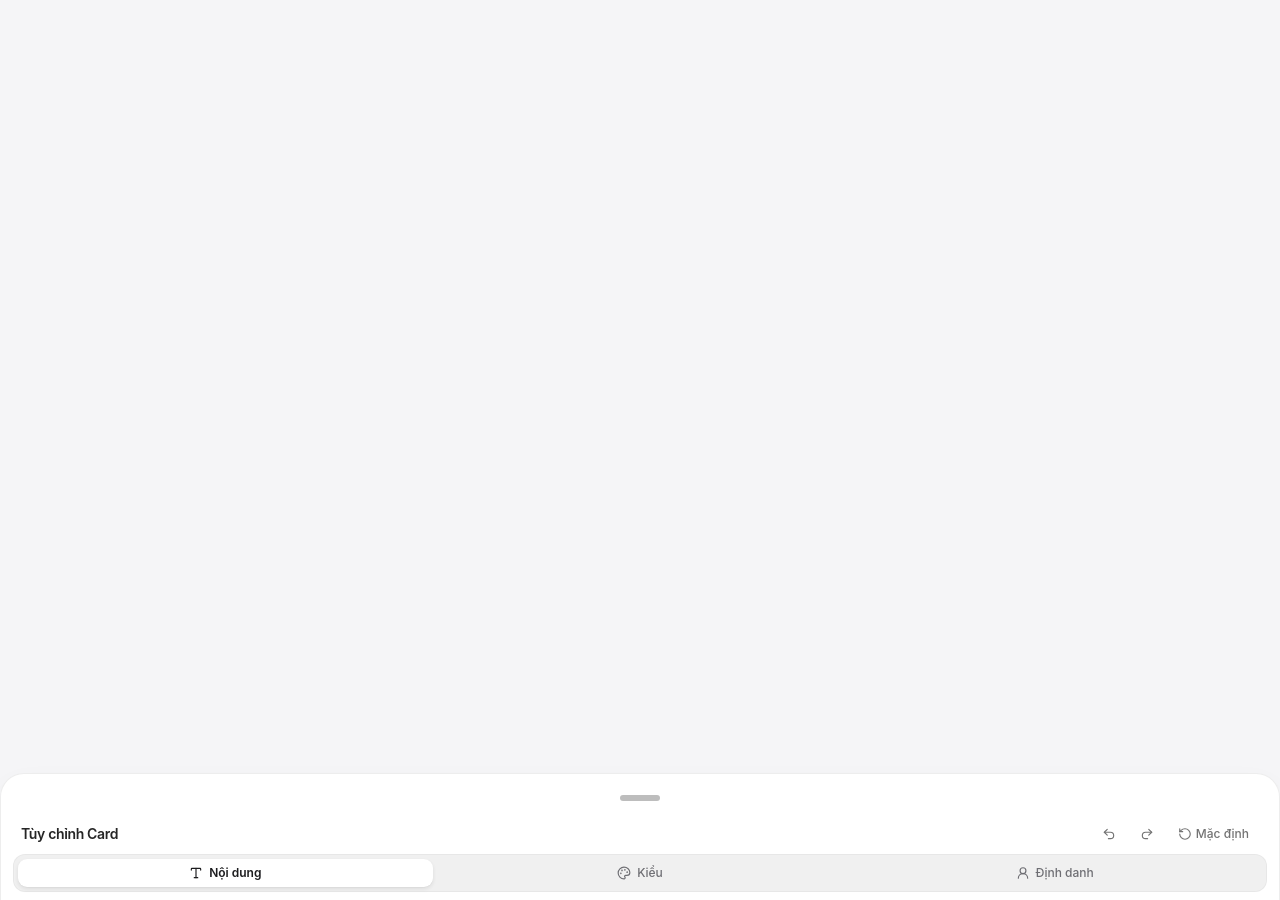
Test: MobileSheet › hosts the Identity group: author fields and the QR toggle
The image size is (1280, 900).
What coordinates should you click on to do the following:
click the radio button labelled "Định danh"
I would click on:
 (1055, 872)
Its box is x1=1016 y1=865 x2=1094 y2=880.
(page scrolled)
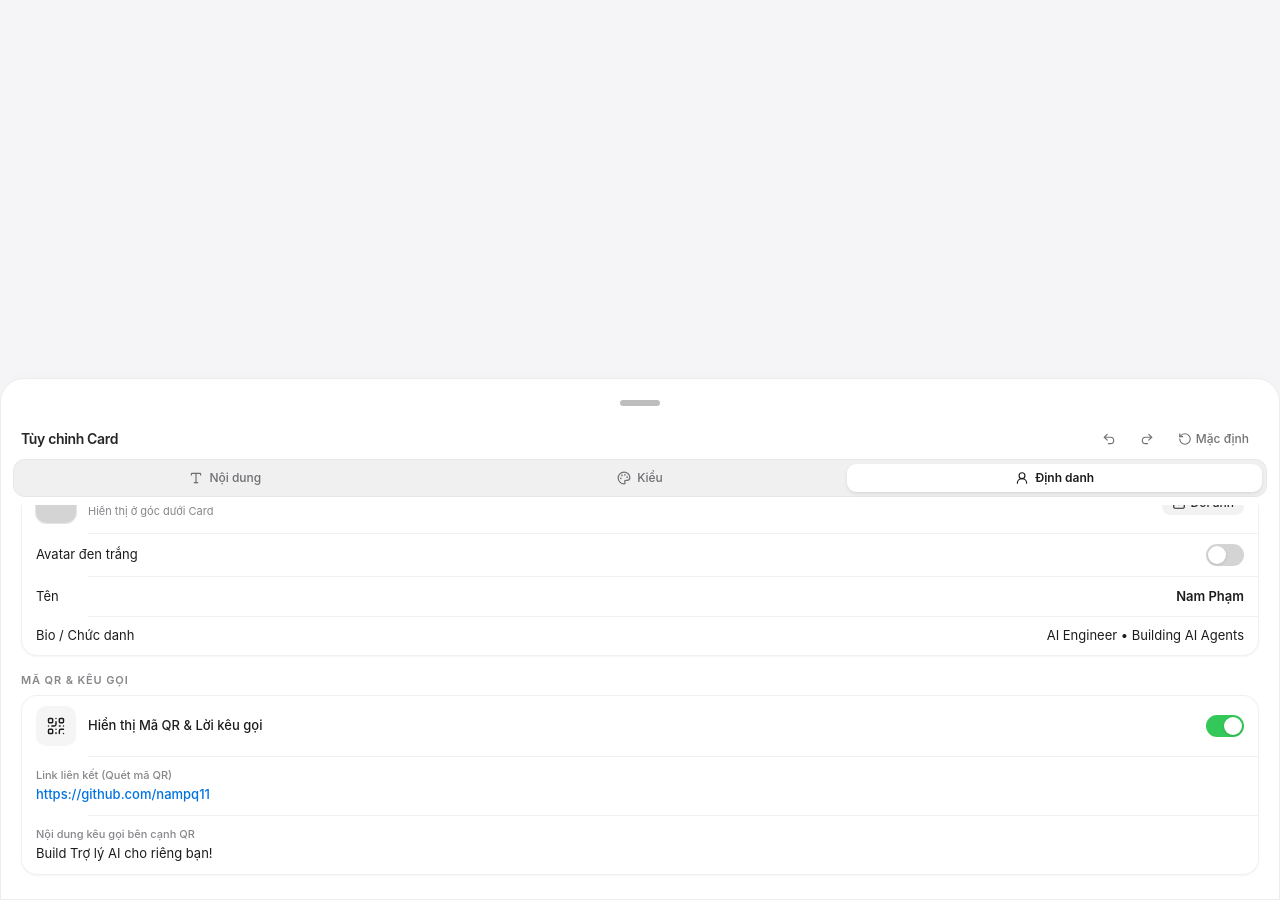
Now the field labelled "Tên" is shown, box x1=71 y1=586 x2=1244 y2=606
Now the switch named "Hiển thị Mã QR" is shown, box x1=1206 y1=714 x2=1244 y2=736
